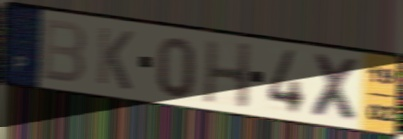0: (153, 34, 198, 101)
4: (265, 47, 306, 117)
B: (39, 16, 88, 86)
H: (202, 38, 255, 112)
K: (94, 24, 136, 94)
X: (309, 50, 363, 126)
